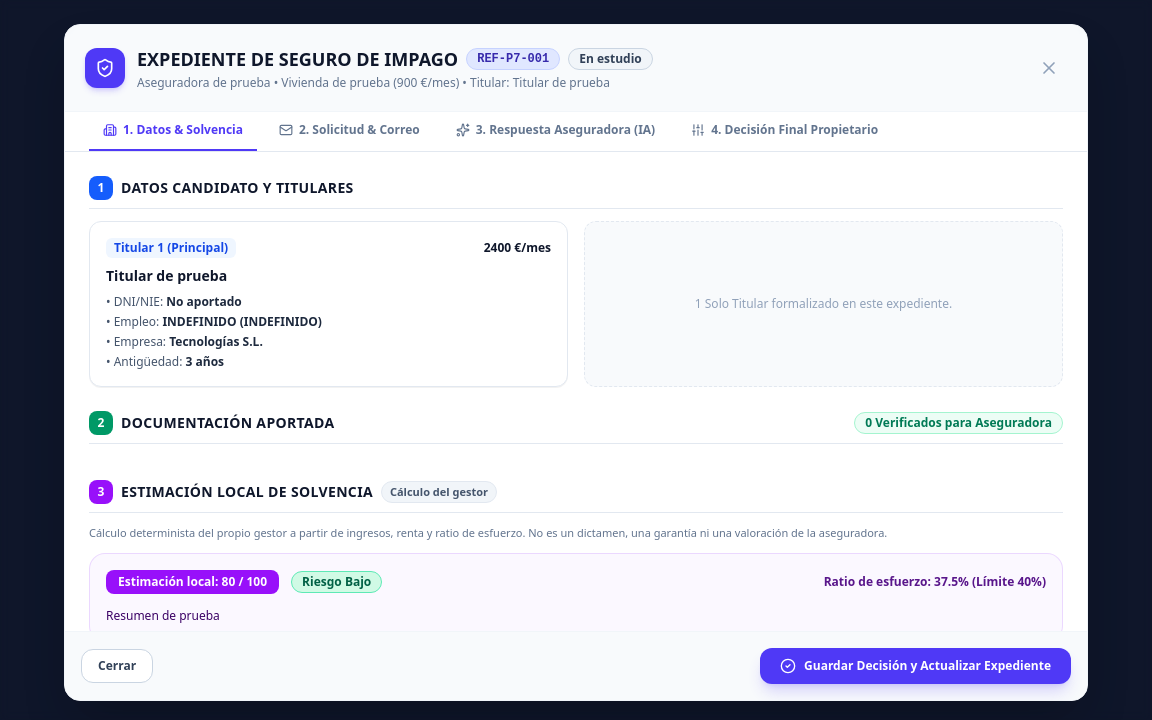
Test: DetalleSolicitudSeguroModal · análisis IA de respuesta recibida › procesa y persiste un dictamen solo cuando la respuesta cumple todo el esquema
This screenshot has width=1152, height=720.
Click the button "3. Respuesta Aseguradora (IA)". click: (555, 131)
box: [442, 112, 669, 151]
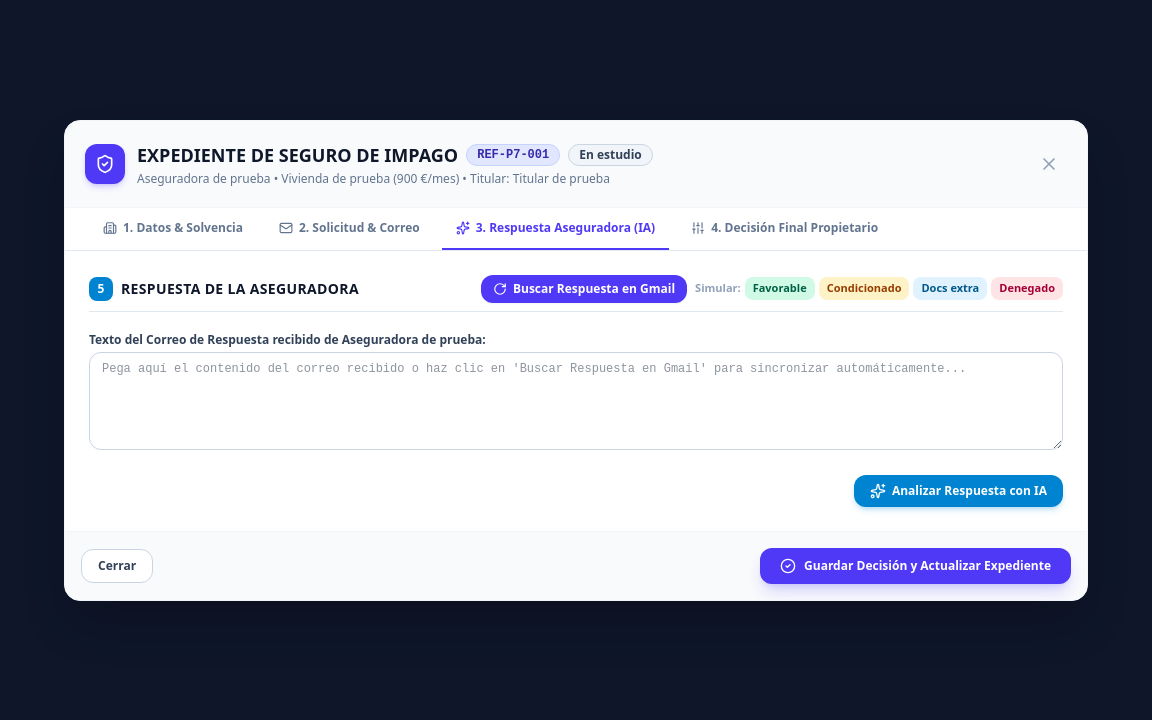
Replace the text in the text box labelled "Texto del Correo de Respuesta recibido" with "Respuesta recibida: revisar condiciones y documentación.". click: (576, 400)
box: [89, 352, 1063, 450]
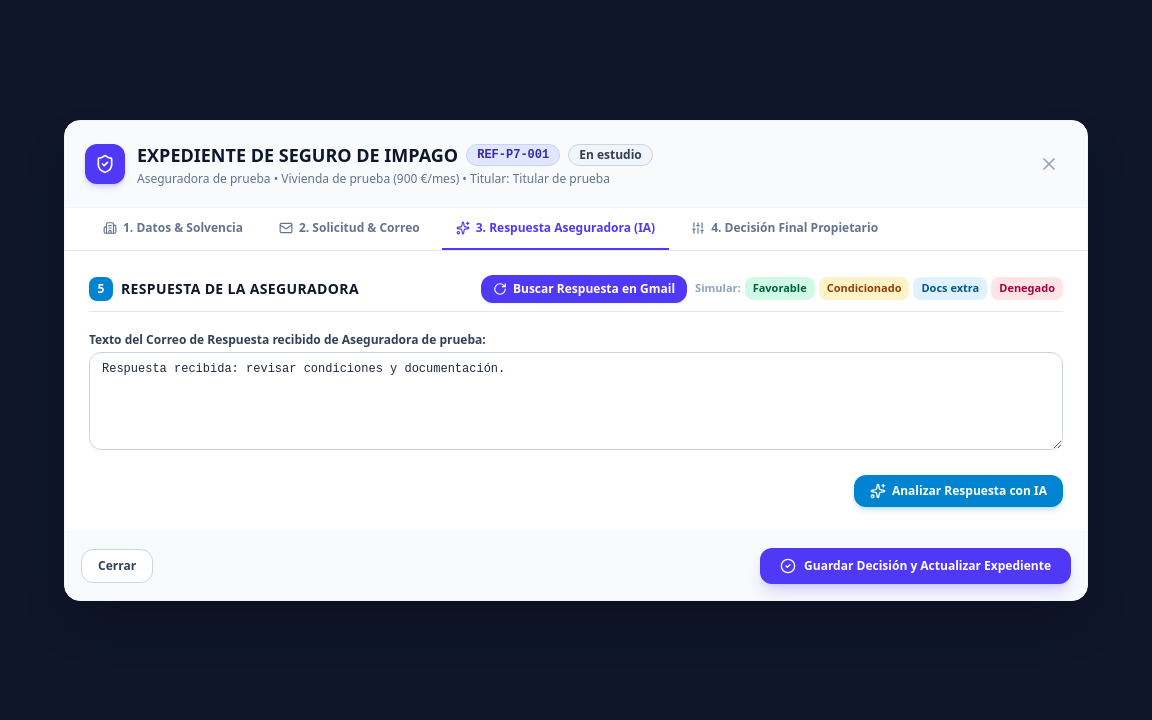
Click the button "Analizar Respuesta con IA". click: (958, 490)
box: [854, 474, 1063, 506]
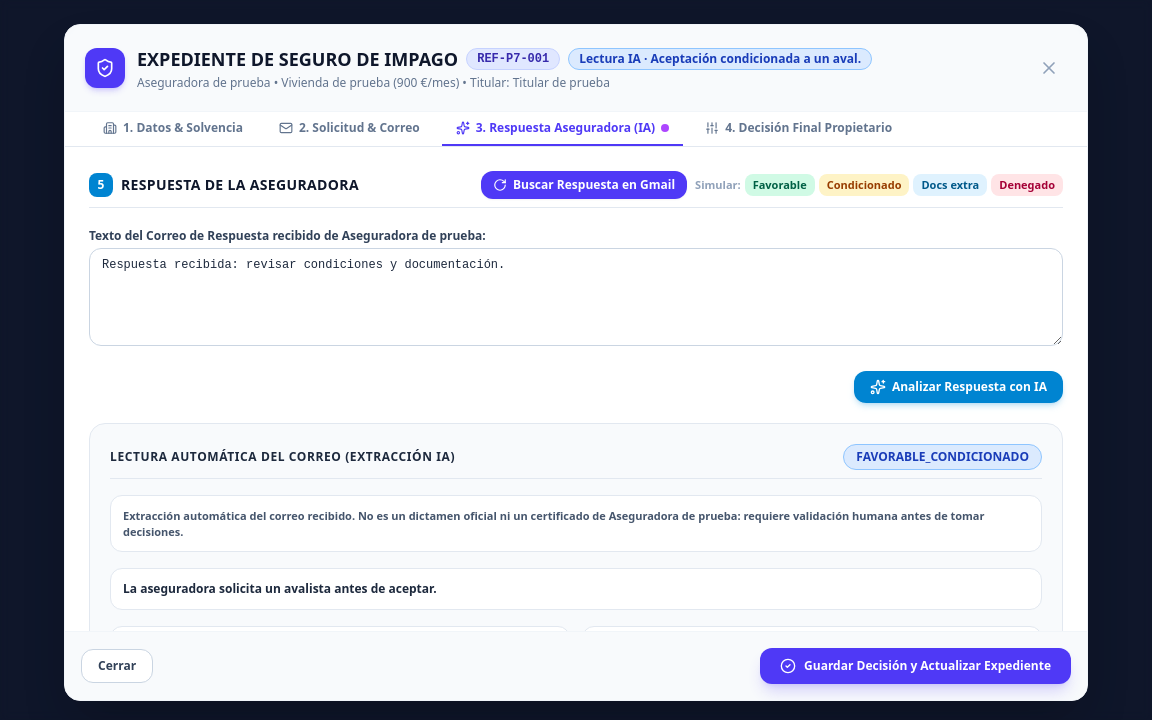
Expected: the text "FAVORABLE_CONDICIONADO" is shown, [843, 444, 1042, 470]
